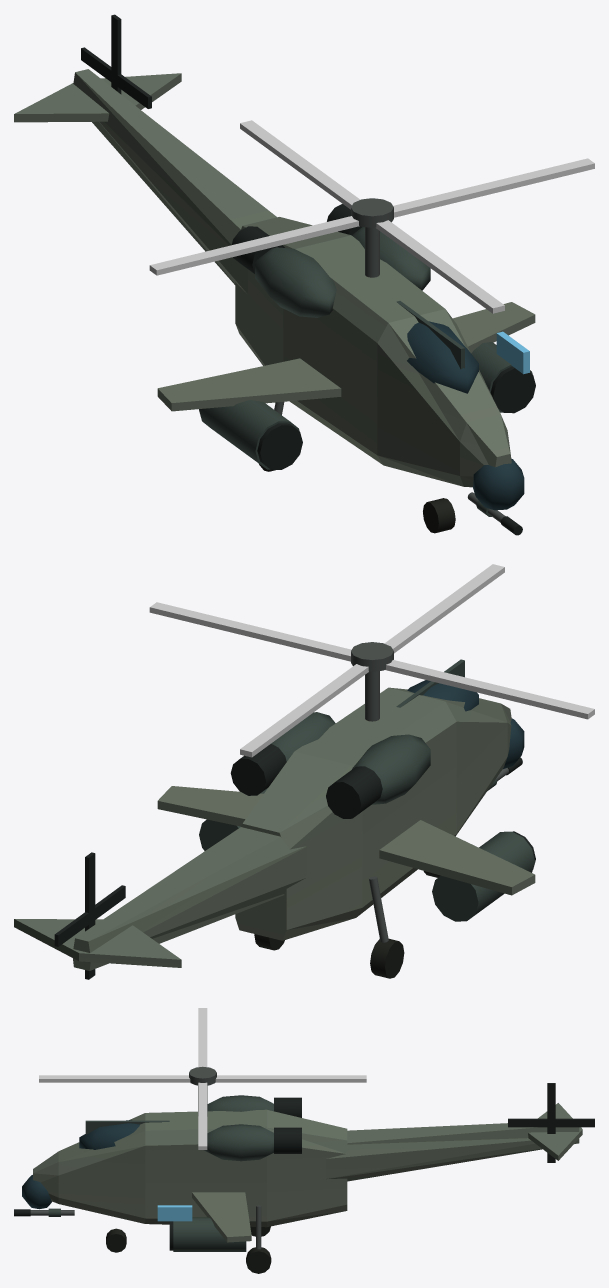
File: casHeli-lod.glb
3 views of the same model, one above another, from view 1: azimuth 30°, elevation 25°; view 2: azimuth 150°, elevation 25°; view 3: azimuth 270°, elevation 25° (orthographic). The views are drawn at different scales.
Visible parts, largest first — view 1: equipment (×6), marking; view 2: equipment (×6); view 3: equipment (×6), marking.
Part boxes in pixels (x1,y1,x2,y2): equipment (×6): [14, 14, 594, 533]; marking: [496, 331, 529, 374]; equipment (×6): [14, 564, 594, 979]; equipment (×6): [14, 1008, 594, 1273]; marking: [157, 1205, 192, 1221].
Bounding box in the file's own units: 4.7 × 2.86 × 8.34.
